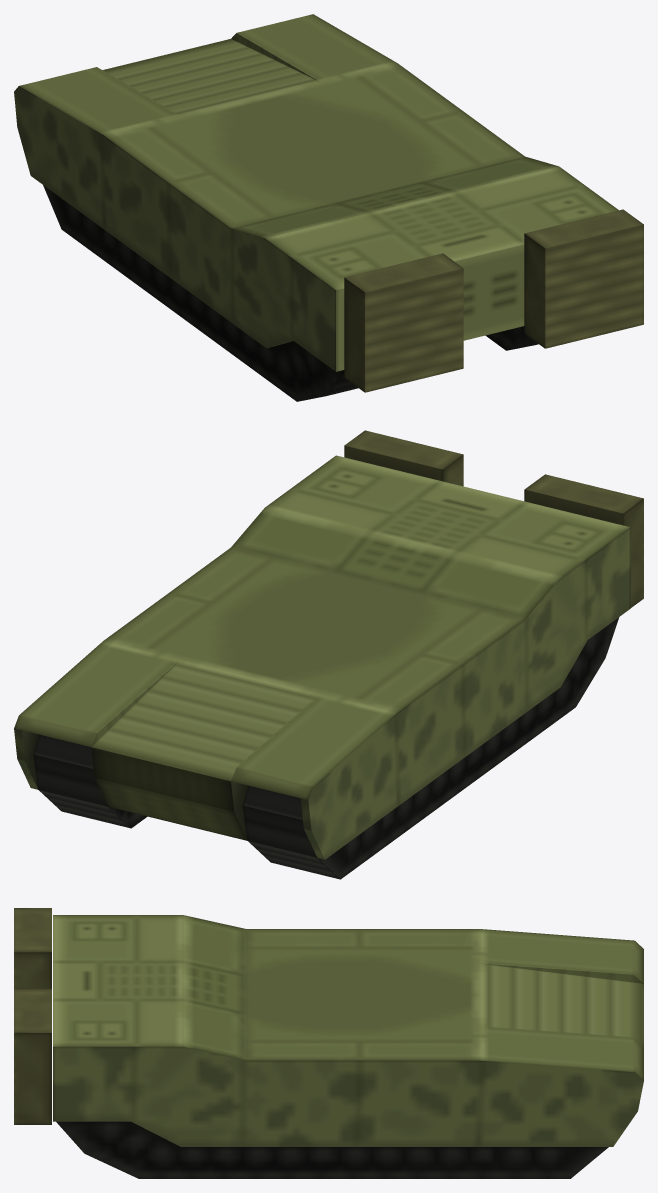
File: tankbottom.fbx
3 renders of one model, top to bottom at view 1: azimuth 30°, elevation 25°; view 2: azimuth 150°, elevation 25°; view 3: azimuth 270°, elevation 25°, orthographic. The views are drawn at different scales.
Visible parts, largest first — view 1: pCube13; view 2: pCube13; view 3: pCube13.
Boxes of the visible parts, x1,y1,x2,y2 form: pCube13: [14, 14, 643, 401]; pCube13: [14, 430, 643, 879]; pCube13: [14, 908, 643, 1178].
Size of the model in its own units: 2.3 by 1.19 by 4.64.
Materials: 1 (1 with a texture image).
